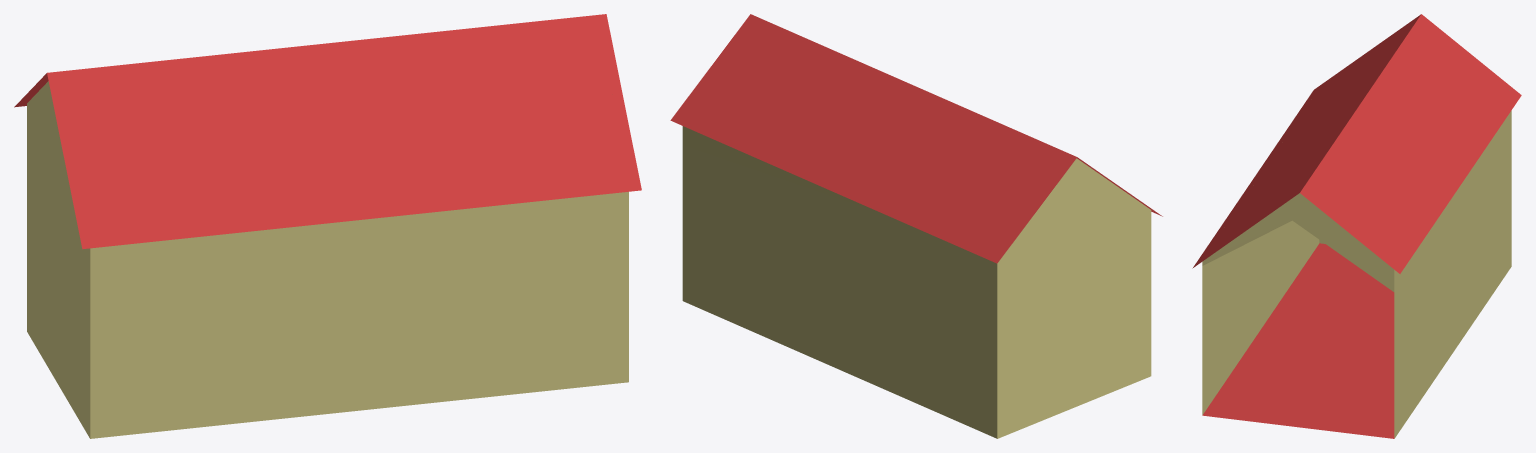
3 renders of one model, left to right at view 1: azimuth 30°, elevation 25°; view 2: azimuth 150°, elevation 25°; view 3: azimuth 270°, elevation 25°, orthographic. The views are drawn at different scales.
Size of the model in its own units: 29.44 by 20.08 by 16.
